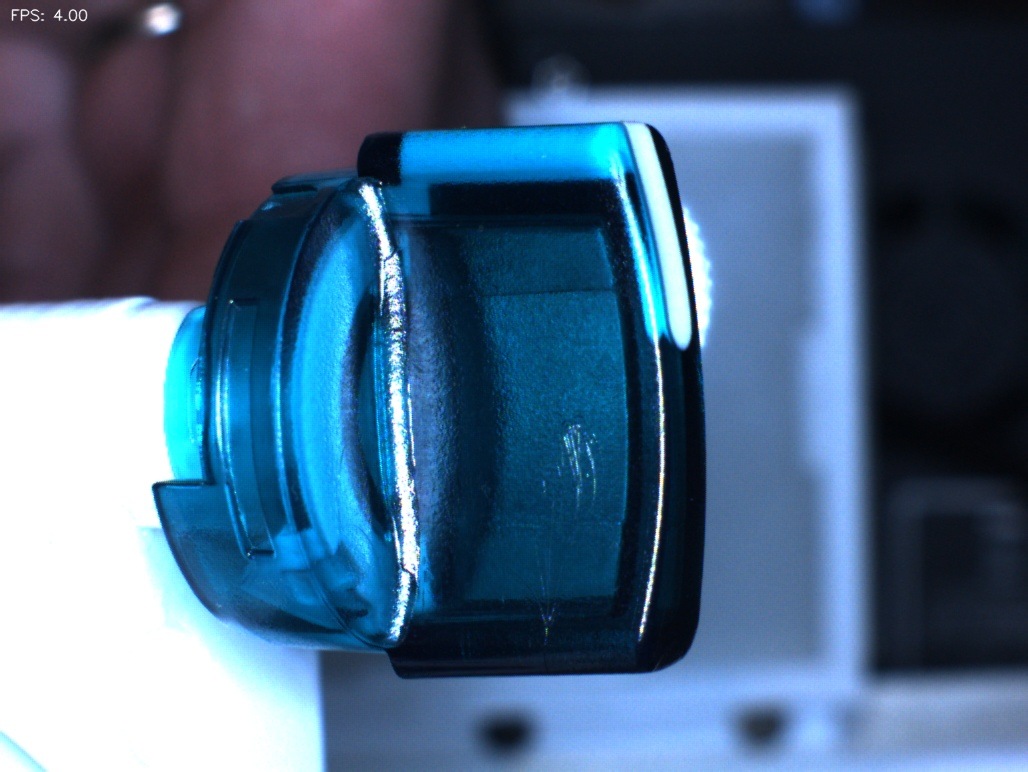Givrage: (512, 404, 608, 656)
